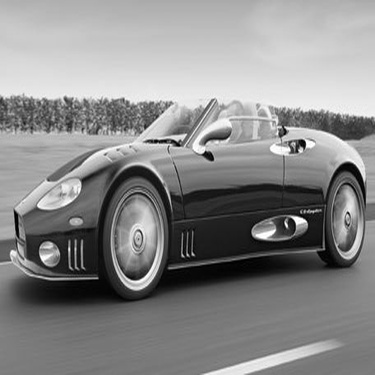car: (1, 98, 365, 297)
